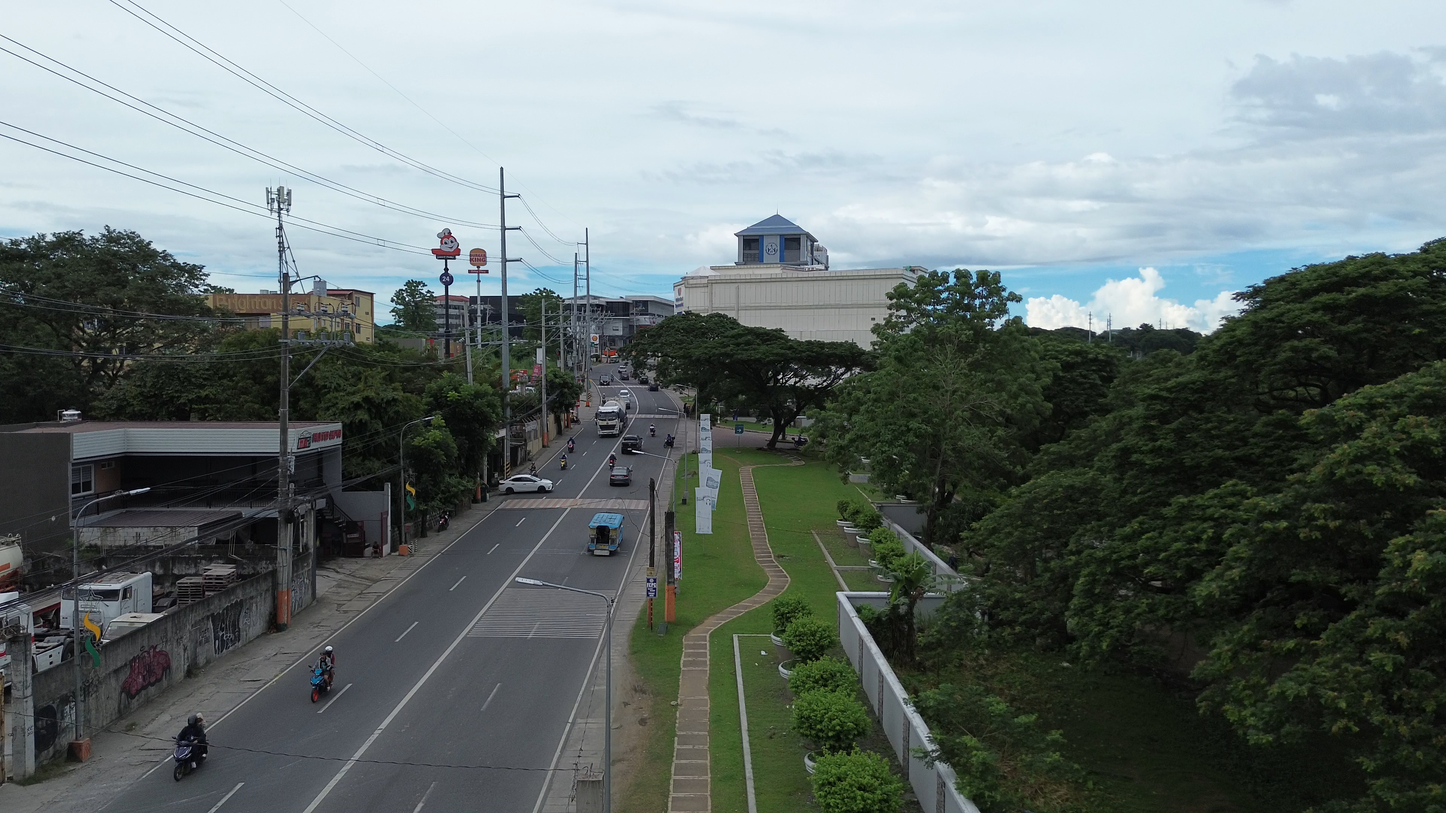car: (499, 474, 553, 494), (609, 466, 631, 486), (599, 373, 613, 386), (618, 388, 631, 398), (648, 383, 659, 391)
motorcycle: (173, 738, 204, 781), (311, 664, 331, 702), (437, 512, 449, 532), (664, 434, 674, 448), (608, 454, 615, 471), (567, 438, 574, 453), (560, 455, 567, 470), (650, 425, 656, 437)
truck: (595, 400, 625, 436)
vehicle: (79, 572, 152, 635), (105, 613, 163, 640), (587, 513, 622, 555), (173, 738, 204, 781), (621, 434, 642, 454), (599, 373, 613, 385), (617, 388, 631, 399), (664, 434, 674, 448), (560, 455, 568, 470), (638, 374, 649, 384)
